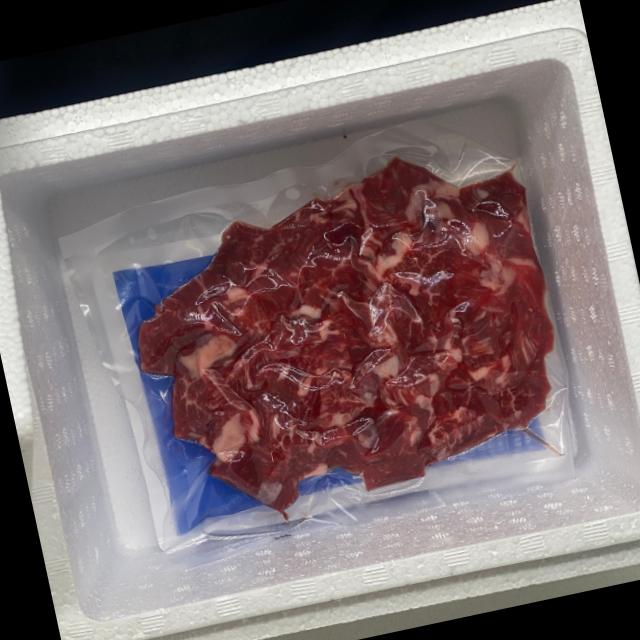beef: (136, 156, 574, 512)
